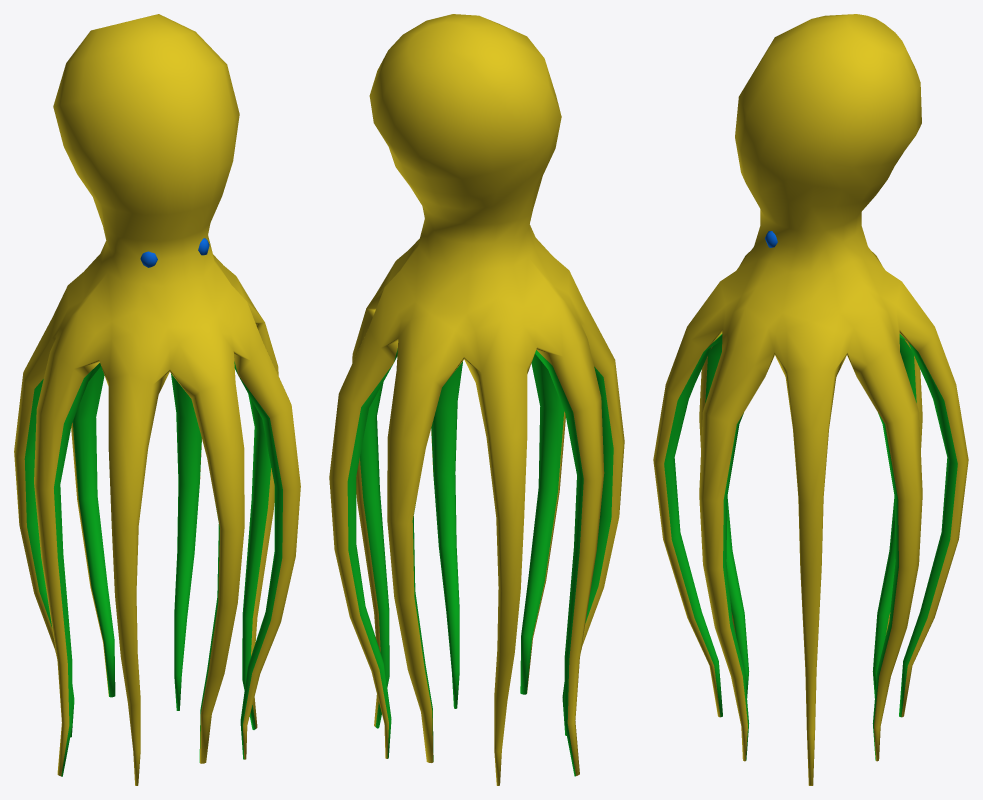
The model's file is Nakji.fbx.
The picture shows the model from 3 angles, left to right: view 1: azimuth 30°, elevation 25°; view 2: azimuth 150°, elevation 25°; view 3: azimuth 270°, elevation 25°; orthographic projection. The views are drawn at different scales.
Visible parts, largest first — view 1: Nakgi; view 2: Nakgi; view 3: Nakgi.
Boxes of the visible parts, box(x1,y1,x2,y2) form: Nakgi: box(14, 14, 300, 785); Nakgi: box(329, 14, 624, 785); Nakgi: box(653, 14, 968, 785).
Size of the model in its own units: 10.42 by 29.81 by 11.85.
